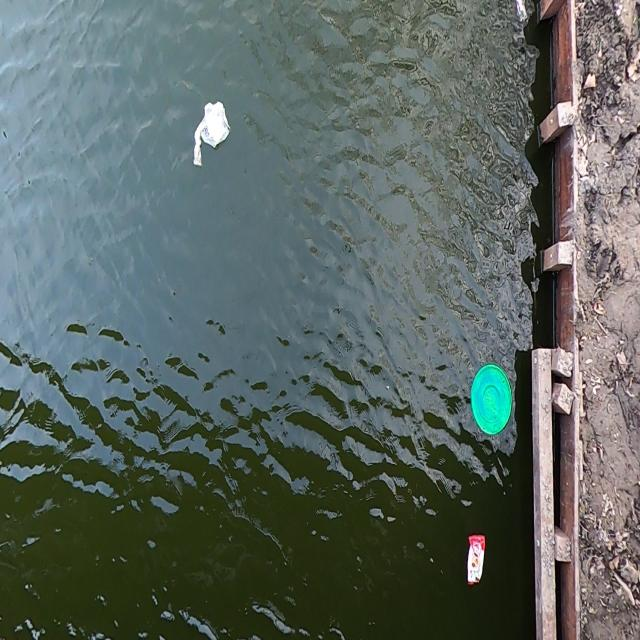Autre plastique: (469, 362, 514, 438), (465, 529, 491, 589)
Sac plastique: (187, 90, 238, 179)
